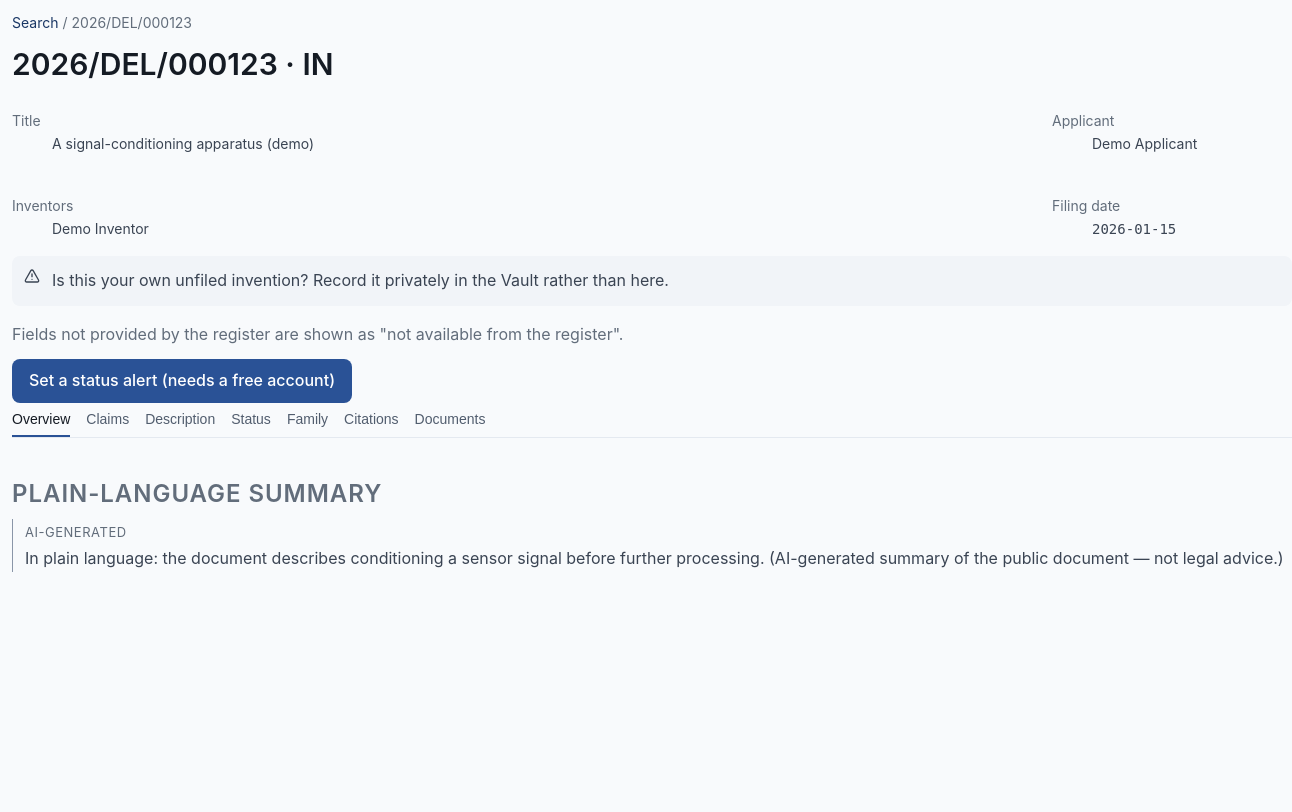
Test case: SC-P03 patent document › carries source/freshness on the status timeline
Click the button "Status" at (251, 420), box [231,403,271,437]
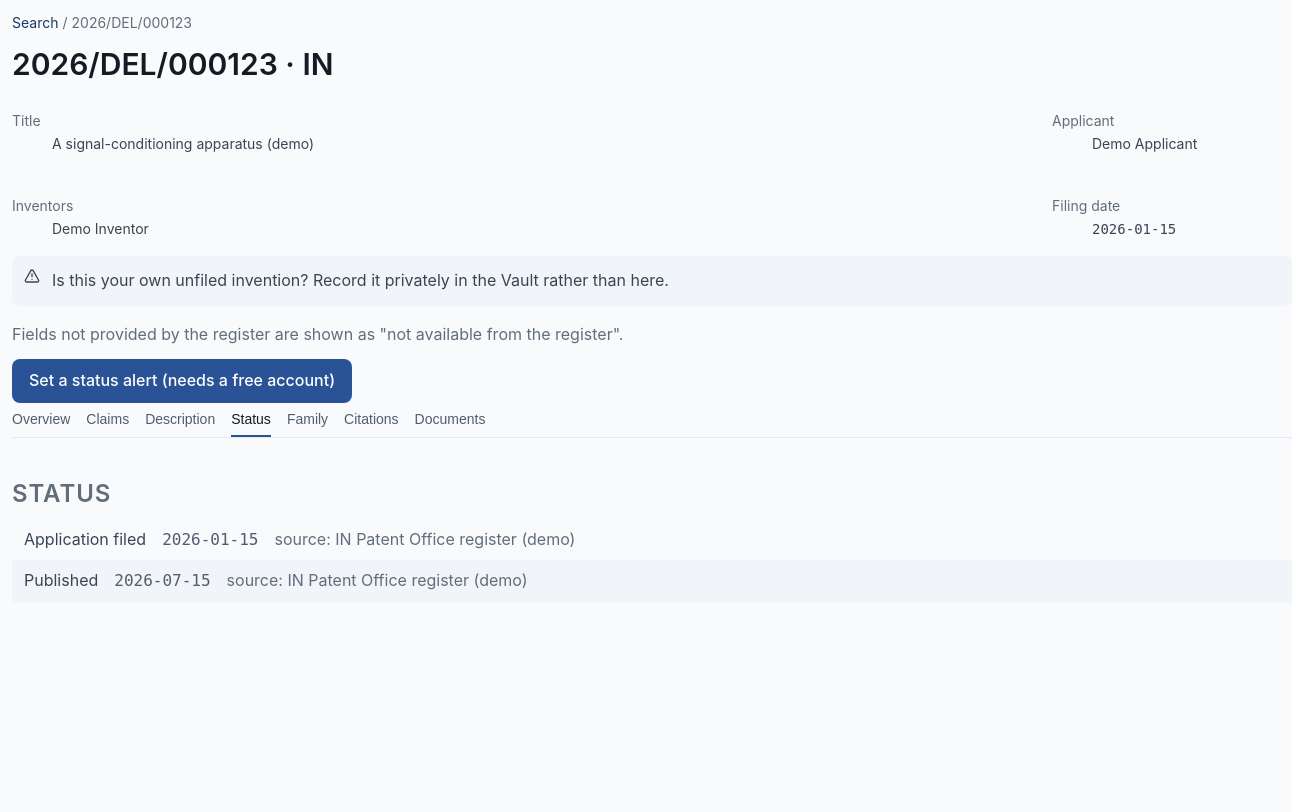
Now the text "source:" is shown, box [274,528,335,548]
